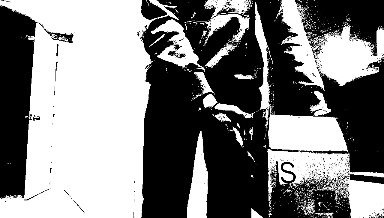S: (276, 160, 298, 183)
